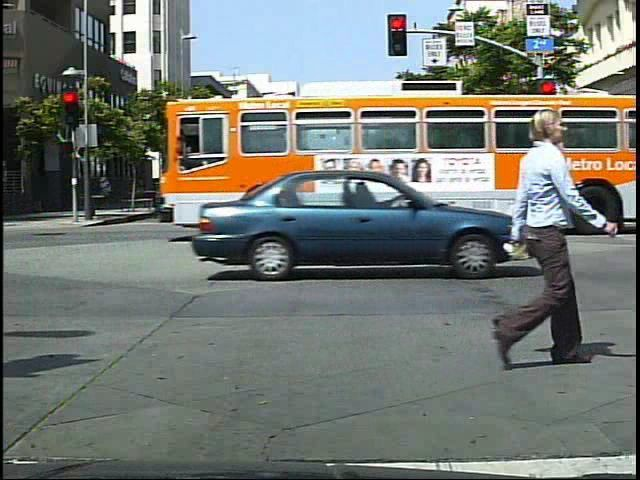person: (476, 94, 604, 397), (310, 165, 341, 228), (313, 166, 343, 230), (217, 167, 246, 233), (549, 160, 572, 211)
